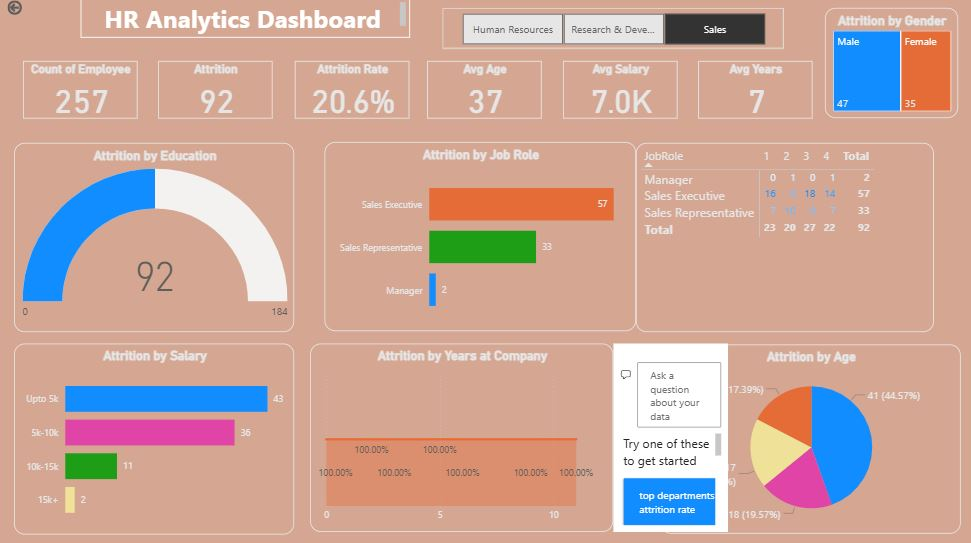

Layout of this report page (visuals, bound fields, positions):
{"tool":"powerbi","page":{"name":"Page 2","canvas":[1280,720],"ordinal":1},"visuals":[{"type":"card","title":"Count of Employee","fields":{"Values":["CountNonNull(HR_Analytics.EmpID)"]},"box":[35.3,84,149.5,75.6],"z":0},{"type":"card","title":"Attrition","fields":{"Values":["Sum(HR_Analytics.AttritionCount)"]},"box":[211.7,84,149.5,75.6],"z":1000},{"type":"card","title":"Attrition Rate","fields":{"Values":["HR_Analytics.AttritionRate"]},"box":[391.4,84,149.5,75.6],"z":2000},{"type":"card","title":"Avg Age","fields":{"Values":["Avg(HR_Analytics.Age)"]},"box":[564.4,84,149.5,75.6],"z":3000},{"type":"actionButton","box":[10.1,0,100.8,26.9],"z":4000},{"type":"card","title":"Avg Salary","fields":{"Values":["Avg(HR_Analytics.MonthlyIncome)"]},"box":[742.5,84,149.5,75.6],"z":5000},{"type":"card","title":"Avg Years","fields":{"Values":["Avg(HR_Analytics.YearsAtCompany)"]},"box":[918.9,84,149.5,75.6],"z":6000},{"type":"gauge","title":"Attrition by Education","fields":{"Y":["Sum(HR_Analytics.AttritionCount)"]},"box":[24.1,191.3,367.1,248],"z":7000},{"type":"pieChart","title":"Attrition by Age","fields":{"Category":["HR_Analytics.AgeGroup"],"Y":["Sum(HR_Analytics.AttritionCount)"]},"box":[869.7,454,393.5,248.2],"z":8000},{"type":"pivotTable","fields":{"Rows":["HR_Analytics.JobRole"],"Columns":["HR_Analytics.JobSatisfaction"],"Values":["Sum(HR_Analytics.AttritionCount)"]},"box":[837.6,191.3,389.8,248],"z":9000},{"type":"barChart","title":"Attrition by Salary","fields":{"Category":["HR_Analytics.SalarySlab"],"Y":["Sum(HR_Analytics.AttritionCount)"]},"box":[24.1,453.5,367.1,249.4],"z":10000},{"type":"barChart","title":"Attrition by Job Role","fields":{"Category":["HR_Analytics.JobRole"],"Y":["Sum(HR_Analytics.AttritionCount)"]},"box":[429.8,189.7,407.6,248.2],"z":11000},{"type":"hundredPercentStackedAreaChart","title":"Attrition by Years at Company","fields":{"Category":["HR_Analytics.YearsAtCompany"],"Y":["Sum(HR_Analytics.AttritionCount)"]},"box":[411,453.5,396.9,246.6],"z":12000},{"type":"treemap","title":"Attrition by Gender","fields":{"Group":["HR_Analytics.Gender"],"Values":["Sum(HR_Analytics.AttritionCount)"]},"box":[1085,14.2,174,144.3],"z":13000},{"type":"slicer","fields":{"Values":["HR_Analytics.Department"]},"box":[584.2,14.2,447,53.8],"z":14000},{"type":"textbox","box":[110.3,0,431.4,53.8],"z":15000},{"type":"qnaVisual","box":[807.9,453.5,150,246.6],"z":16000}]}

Visuals, with their boxes in screenshot pixels (x1, y1, x2, y2), scaled from the page's 1280x720 canvas onto the 971x543 screenshot:
"Count of Employee" card: bbox=[27, 63, 140, 120]
"Attrition" card: bbox=[161, 63, 274, 120]
"Attrition Rate" card: bbox=[297, 63, 410, 120]
"Avg Age" card: bbox=[428, 63, 542, 120]
actionButton: bbox=[8, 0, 84, 20]
"Avg Salary" card: bbox=[563, 63, 677, 120]
"Avg Years" card: bbox=[697, 63, 810, 120]
"Attrition by Education" gauge: bbox=[18, 144, 297, 331]
"Attrition by Age" pieChart: bbox=[660, 342, 958, 530]
pivotTable - HR_Analytics.JobRole x HR_Analytics.JobSatisfaction: bbox=[635, 144, 931, 331]
"Attrition by Salary" barChart: bbox=[18, 342, 297, 530]
"Attrition by Job Role" barChart: bbox=[326, 143, 635, 330]
"Attrition by Years at Company" hundredPercentStackedAreaChart: bbox=[312, 342, 613, 528]
"Attrition by Gender" treemap: bbox=[823, 11, 955, 120]
slicer - HR_Analytics.Department: bbox=[443, 11, 782, 51]
textbox: bbox=[84, 0, 411, 41]
qnaVisual: bbox=[613, 342, 727, 528]
